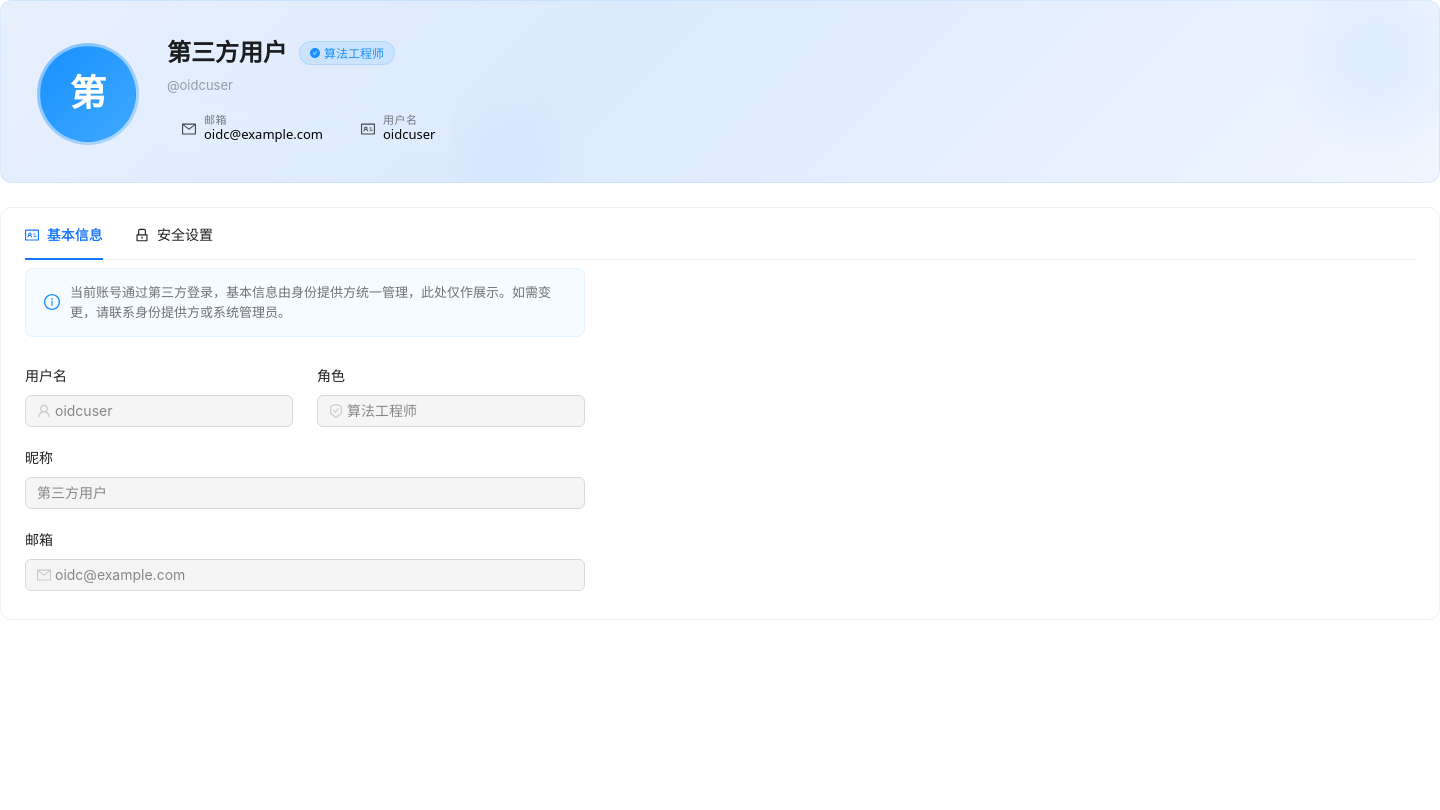
Test: ProfilePage 按认证方式控制可编辑性 › 第三方登录用户不显示修改密码表单
Click the tab "安全设置". click: (174, 236)
box: [135,224,213,248]
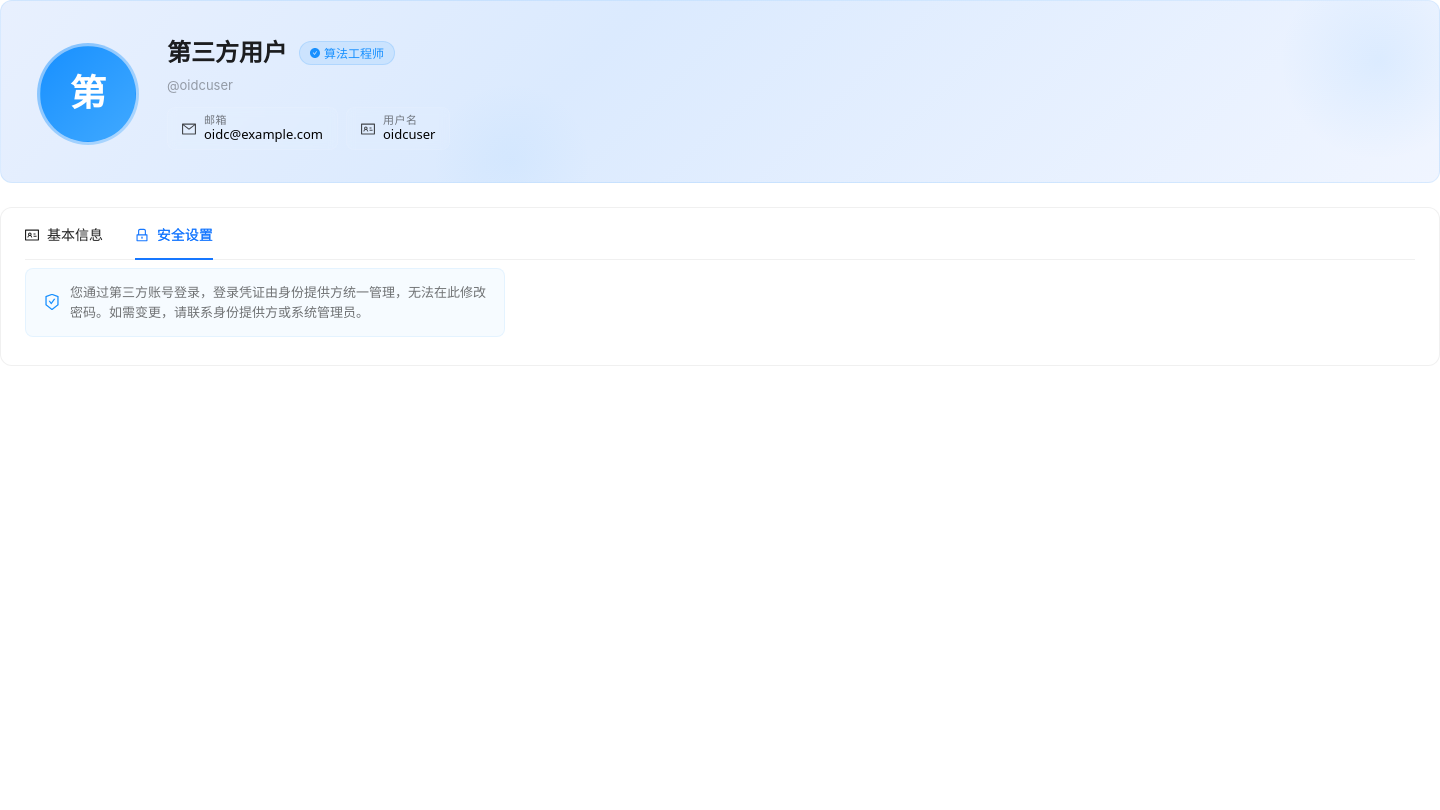
Expected: the text "您通过第三方账号登录，登录凭证由身份提供方统一管理，无法在此修改密码。如需变更，请联系身份提供方或系统管理员。" is shown, [70,283,486,322]
